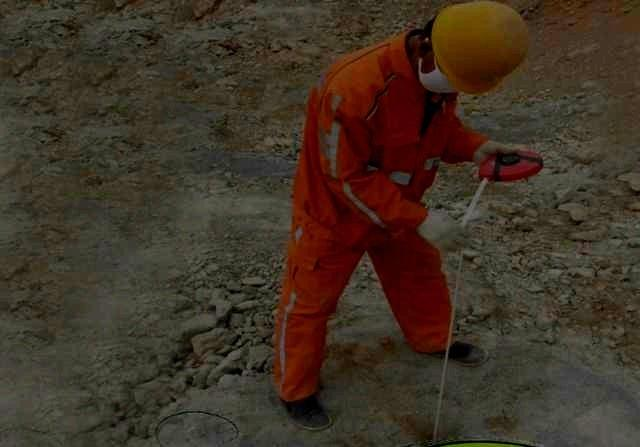helmet: (417, 1, 531, 96)
